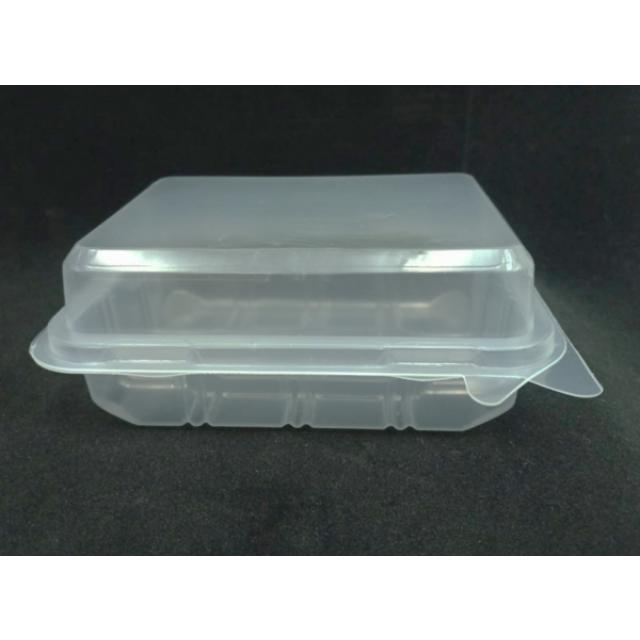Recipiente plastico: (32, 170, 598, 433)
